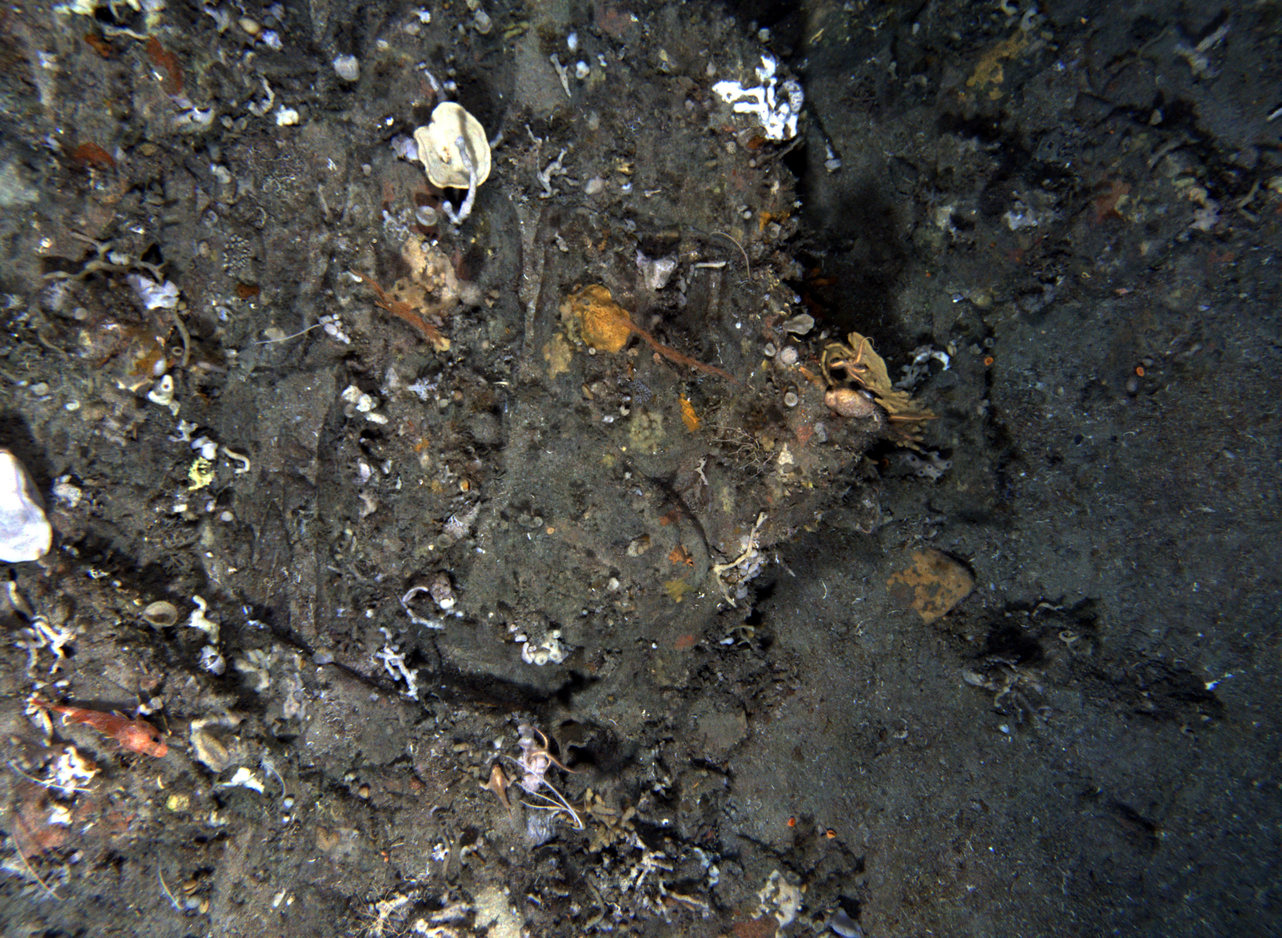Brachionichthyidae: (475, 762, 518, 821)
